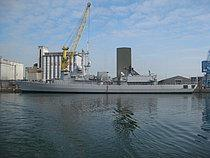MIL_Ship: (11, 60, 199, 95)
